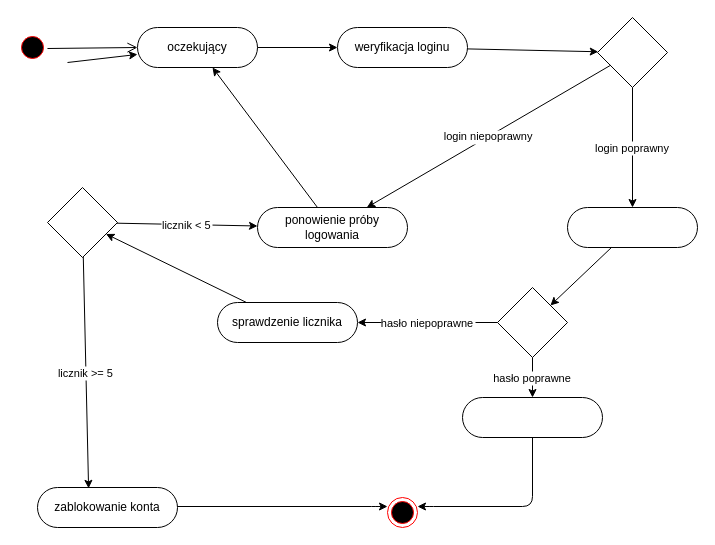
The diagram is 715 pixels wide and 545 high, and some of its shapes have lost their labels. Each missing label, with the centre of its shape:
"pomyślne zalogowanie" belongs at (532,417).
"weryfikacja hasła" belongs at (632,227).
